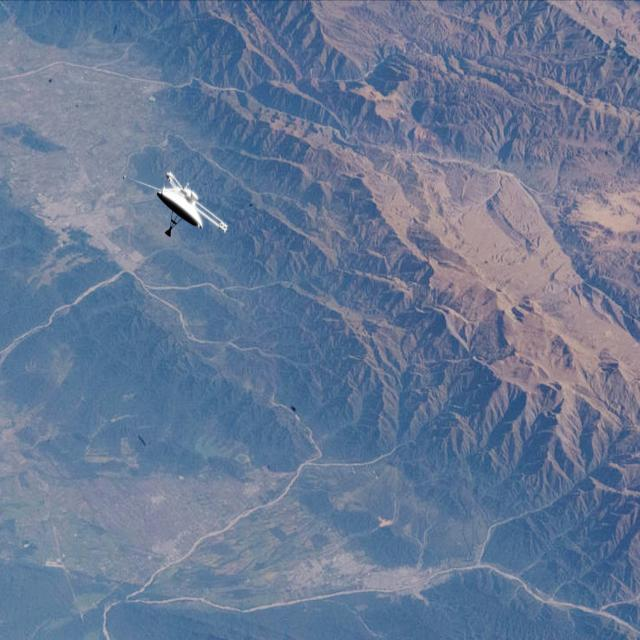satellite: (129, 162, 222, 254)
